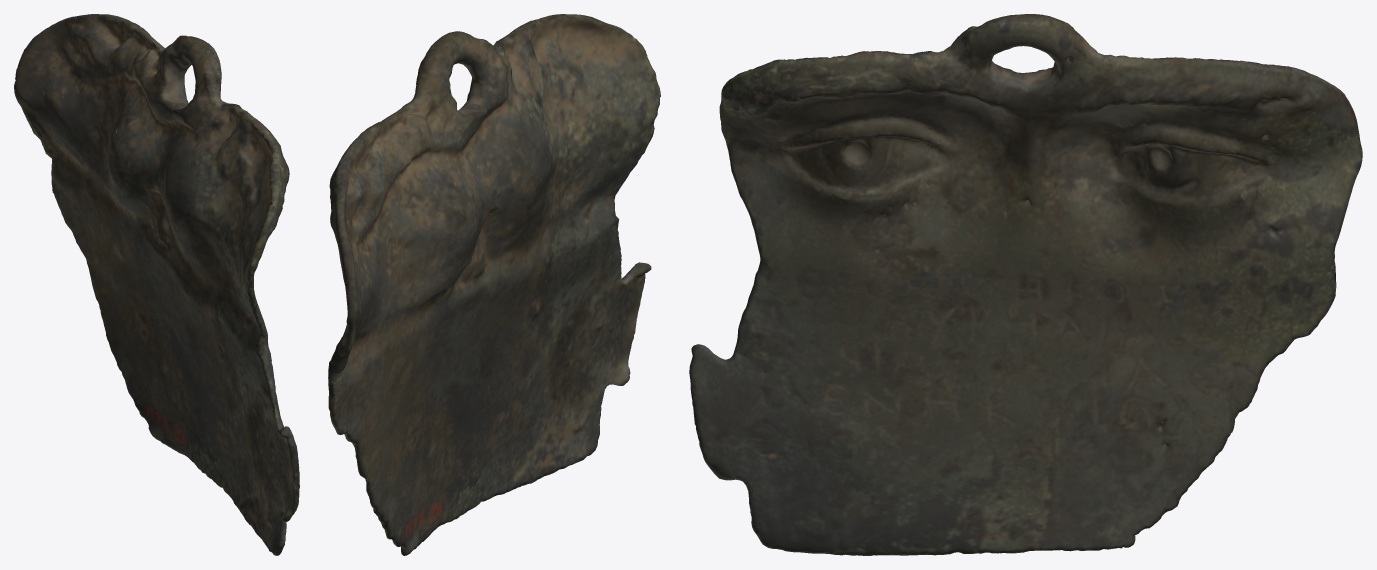
Rendered from augenvotiv_mit_inschrift.glb.
3 views of the same model, side by side, from view 1: azimuth 30°, elevation 25°; view 2: azimuth 150°, elevation 25°; view 3: azimuth 270°, elevation 25° (orthographic). The views are drawn at different scales.
Bounding box in the file's own units: 0.00269 × 0.0133 × 0.0149.
Materials: 1 (1 with a texture image).
